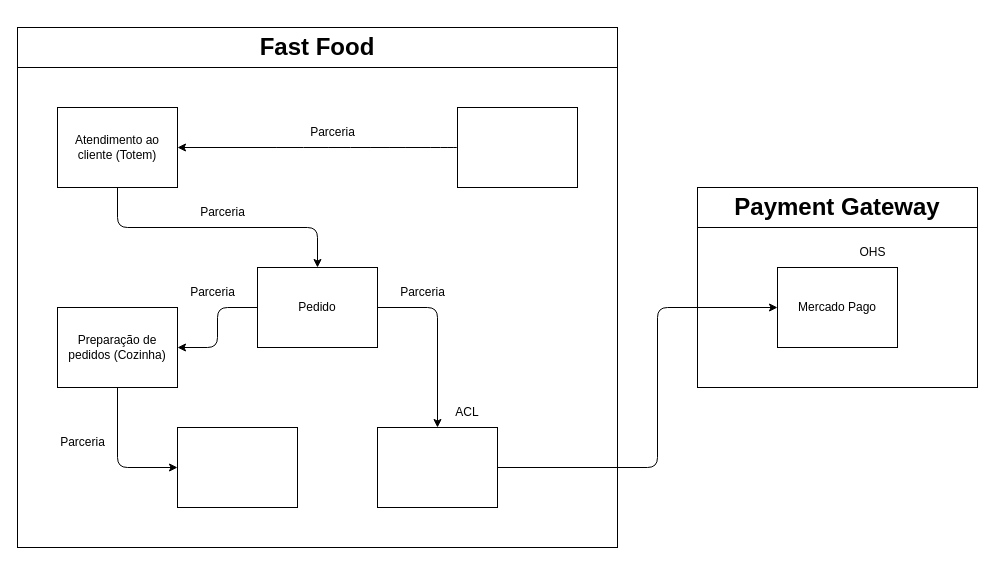
Some shapes in this 995 by 565 pixel diagram are drawn without their labels. Each missing label, with the centre of its shape:
"Controle de pagamento" goes at point (437, 467).
"Gerenciamento de insumos (Estoque)" goes at point (237, 467).
"Gestão de cardápio" goes at point (517, 147).
